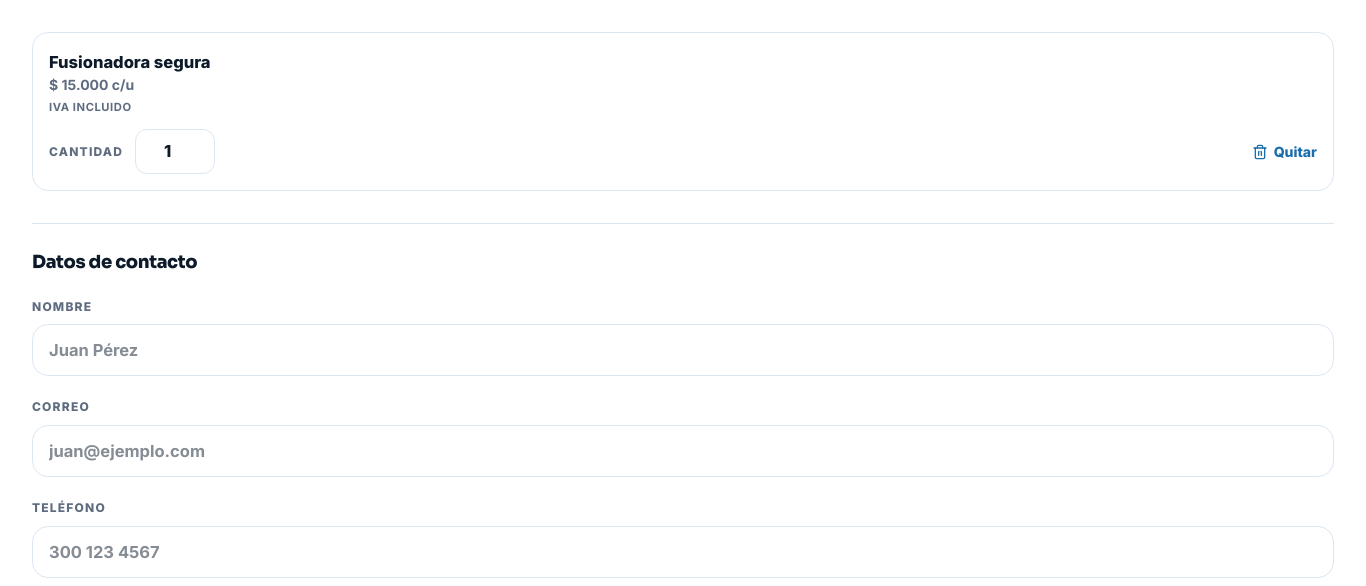
CartContent › updates, rejects invalid quantities, and removes local items
This screenshot has width=1366, height=586.
Replace the text in the number field named "Cantidad para Fusionadora segura" with "2" at (175, 152), box [135,129,215,174]
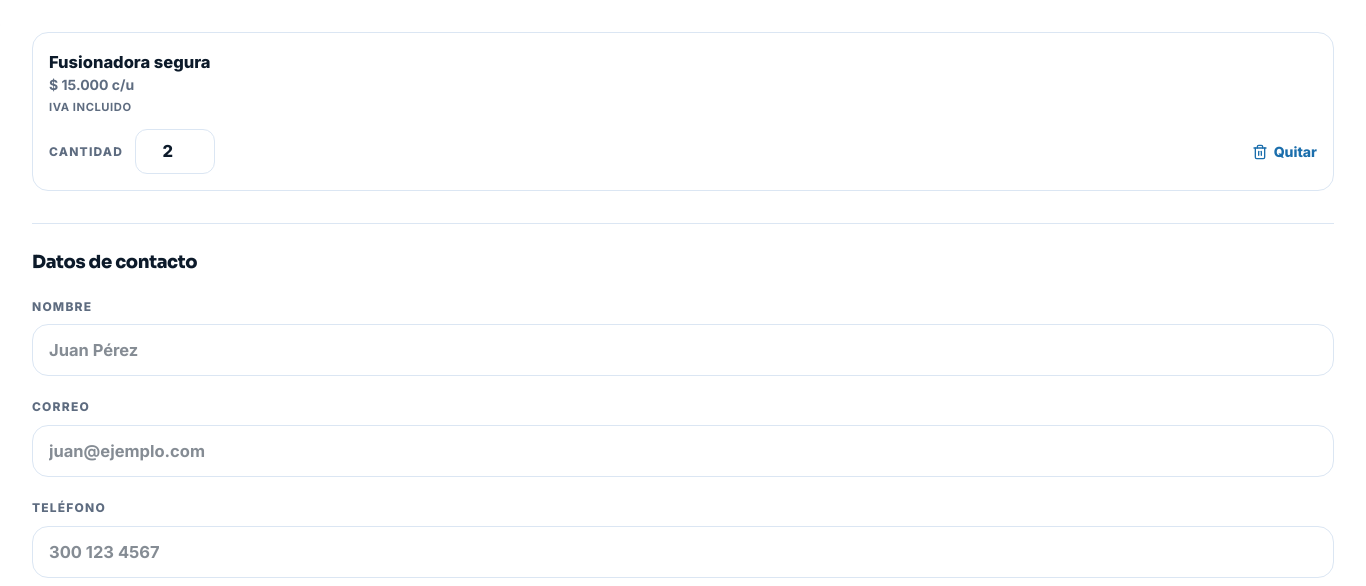
Replace the text in the number field named "Cantidad para Fusionadora segura" with "0" at (175, 152), box [135,129,215,174]
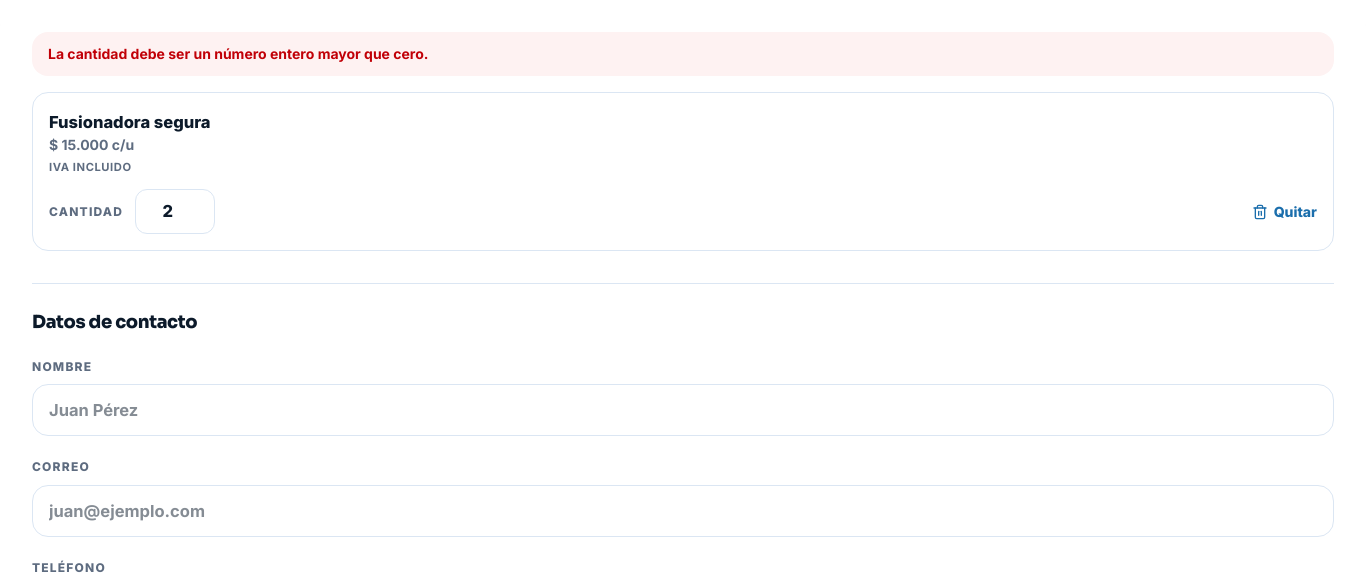
expect the message reads "La cantidad debe ser un número entero mayor que cero.": met, box [48,45,428,62]
Click the button with aria-label "Quitar Fusionadora segura del pedido".
click(1284, 212)  # box [1252,202,1317,222]
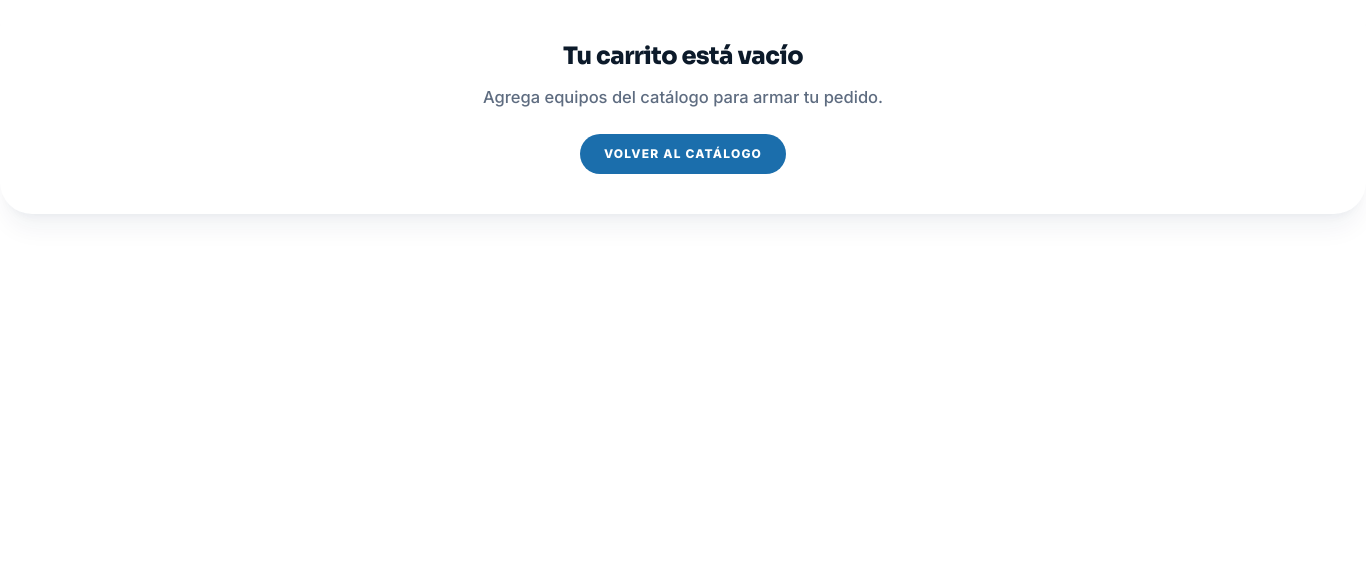
expect the heading "Tu carrito está vacío" is shown: met, box [563,41,803,71]
